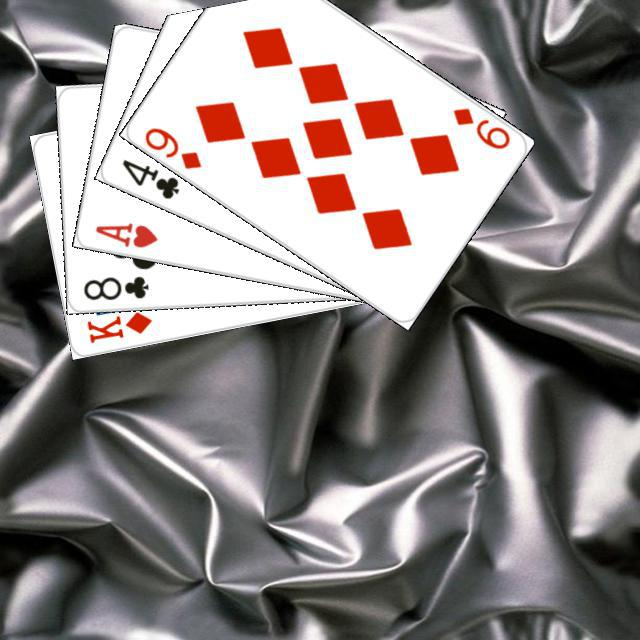4c: (117, 154, 181, 201)
8c: (79, 271, 151, 302)
9d: (447, 102, 512, 152), (139, 122, 204, 171)
Ah: (90, 218, 160, 250)
Kd: (81, 307, 154, 345)
